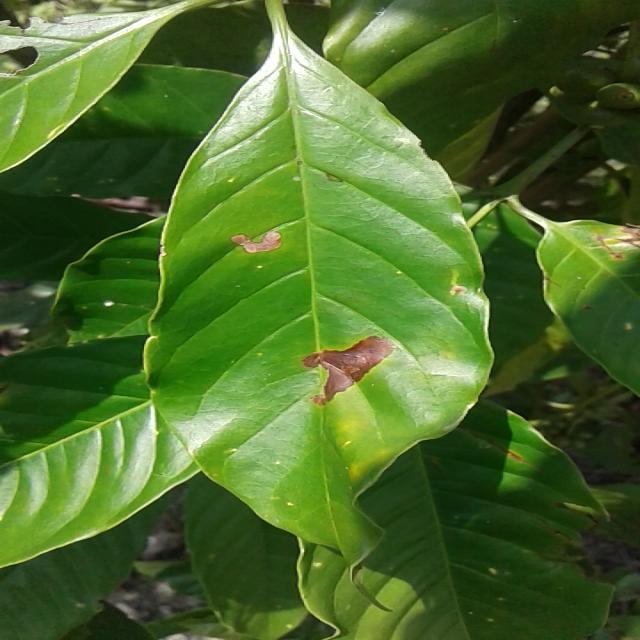Plaga-AranaRoja: (127, 0, 496, 636)
